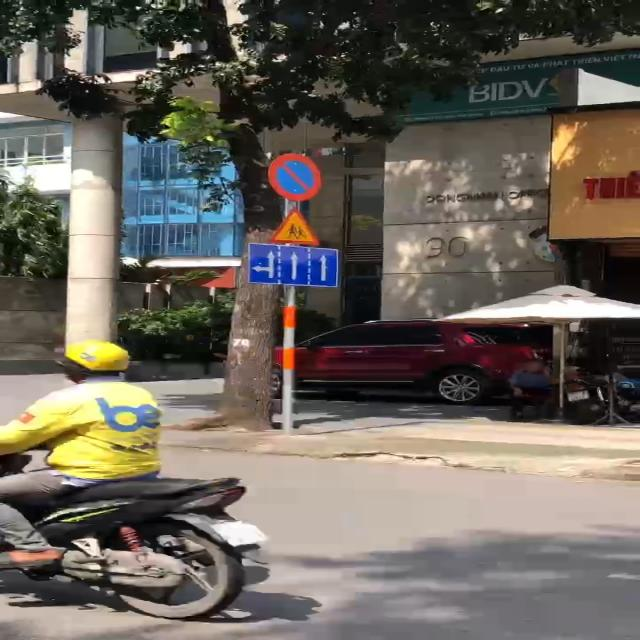Bien bao tre em: (266, 206, 325, 244)
